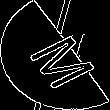M_NE: (15, 22, 95, 88)
